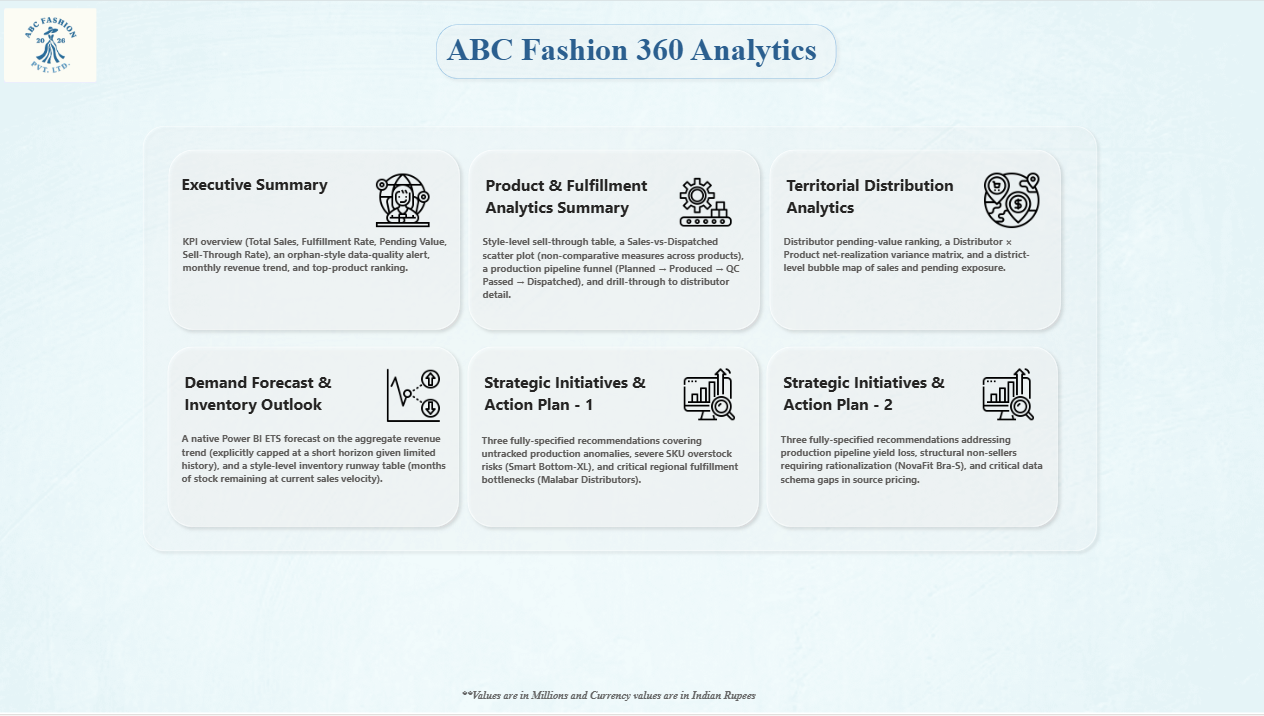

What the dashboard file says about the page in this screenshot:
{"tool":"powerbi","page":{"name":"Home","canvas":[1920,1080],"ordinal":0},"visuals":[{"type":"textbox","box":[638.7,41,640.7,76.2],"z":0},{"type":"group","id":"g1","title":"Executive Summary ","box":[248.1,215.6,461,293],"z":0,"group":"g6"},{"type":"actionButton","title":"Executive Summary","box":[248.1,215.6,461,293],"z":0,"group":"g1"},{"type":"actionButton","title":"Product & Fulfilment","box":[703.1,215.6,461,293],"z":0,"group":"g2"},{"type":"actionButton","title":"Territorial Distribution Analytics","box":[1158.2,215.6,461,293],"z":0,"group":"g3"},{"type":"actionButton","title":"Demand Forecast & Inventory Outlook","box":[247.2,513.6,461,293],"z":0,"group":"g5"},{"type":"group","id":"g2","title":"Product & Fulfillment Analytics","box":[703.1,215.6,461,293],"z":1000,"group":"g6"},{"type":"image","box":[1492.2,252.7,84,97.7],"z":1000,"group":"g3"},{"type":"textbox","box":[271.9,257.2,263.2,51.3],"z":1000,"group":"g1"},{"type":"textbox","box":[732.8,258.8,277.4,91.8],"z":1000,"group":"g2"},{"type":"actionButton","title":"Strategic Initiatives & Action Plan - 1","box":[702.2,513.6,461,293],"z":1000,"group":"g4"},{"type":"actionButton","title":"Strategic Initiatives & Action Plan - 2","box":[1155,513.6,461,293],"z":1000,"group":"g7"},{"type":"textbox","box":[276.9,556.8,277.4,91.8],"z":1000,"group":"g5"},{"type":"image","box":[587.4,549.7,83.1,95.9],"z":1500,"group":"g5"},{"type":"group","id":"g3","title":"Territorial Distribution Analytics","box":[1158.2,215.6,461,293],"z":2000,"group":"g6"},{"type":"image","box":[570.4,252.7,84,97.7],"z":2000,"group":"g1"},{"type":"image","box":[1029.7,256.8,84,97.7],"z":2000,"group":"g2"},{"type":"textbox","box":[1187.9,258.8,277.4,91.8],"z":2000,"group":"g3"},{"type":"group","id":"g4","title":"Strategic Initiatives & Action Plan - 1","box":[702.2,513.6,460.3,294.1],"z":2000,"group":"g8"},{"type":"textbox","box":[731.9,556.8,277.4,91.8],"z":2000,"group":"g4"},{"type":"textbox","box":[1184.7,556.8,277.4,91.8],"z":2000,"group":"g7"},{"type":"image","box":[1037.5,547.6,83.1,98],"z":2500,"group":"g4"},{"type":"image","box":[1490.3,547.6,83.1,98],"z":2500,"group":"g7"},{"type":"image","box":[9.1,0,140.2,134.6],"z":3000},{"type":"shape","box":[210.9,180.3,1462.5,661.5],"z":4000},{"type":"shape","box":[654.3,25.4,625,101.6],"z":5000},{"type":"group","id":"g5","title":"Demand Forecast & Inventory Outlook","box":[247.2,513.6,462.4,294.1],"z":6000,"group":"g8"},{"type":"group","id":"g6","title":"Row1 Home_Nav","box":[248.1,215.6,1371,293],"z":7000},{"type":"group","id":"g7","title":"Strategic Initiatives & Action Plan - 2","box":[1155,513.6,462.4,291.9],"z":8000,"group":"g8"},{"type":"group","id":"g8","title":"Row2 Home_Nav","box":[247.2,513.6,1370.2,294.1],"z":8001},{"type":"textbox","box":[671.1,987.6,507.2,91.5],"z":8002}]}

Visuals, with their boxes in screenshot pixels (x1, y1, x2, y2), scaled from the page's 1920x1080 canvas onto the 1264x716 screenshot:
textbox: (left=420, top=27, right=842, bottom=78)
"Executive Summary " group: (left=163, top=143, right=467, bottom=337)
"Executive Summary" actionButton: (left=163, top=143, right=467, bottom=337)
"Product & Fulfilment" actionButton: (left=463, top=143, right=766, bottom=337)
"Territorial Distribution Analytics" actionButton: (left=762, top=143, right=1066, bottom=337)
"Demand Forecast & Inventory Outlook" actionButton: (left=163, top=340, right=466, bottom=535)
"Product & Fulfillment Analytics" group: (left=463, top=143, right=766, bottom=337)
image: (left=982, top=168, right=1038, bottom=232)
textbox: (left=179, top=171, right=352, bottom=205)
textbox: (left=482, top=172, right=665, bottom=232)
"Strategic Initiatives & Action Plan - 1" actionButton: (left=462, top=340, right=766, bottom=535)
"Strategic Initiatives & Action Plan - 2" actionButton: (left=760, top=340, right=1064, bottom=535)
textbox: (left=182, top=369, right=365, bottom=430)
image: (left=387, top=364, right=441, bottom=428)
"Territorial Distribution Analytics" group: (left=762, top=143, right=1066, bottom=337)
image: (left=376, top=168, right=431, bottom=232)
image: (left=678, top=170, right=733, bottom=235)
textbox: (left=782, top=172, right=965, bottom=232)
"Strategic Initiatives & Action Plan - 1" group: (left=462, top=340, right=765, bottom=535)
textbox: (left=482, top=369, right=664, bottom=430)
textbox: (left=780, top=369, right=963, bottom=430)
image: (left=683, top=363, right=738, bottom=428)
image: (left=981, top=363, right=1036, bottom=428)
image: (left=6, top=0, right=98, bottom=89)
shape: (left=139, top=120, right=1102, bottom=558)
shape: (left=431, top=17, right=842, bottom=84)
"Demand Forecast & Inventory Outlook" group: (left=163, top=340, right=467, bottom=535)
"Row1 Home_Nav" group: (left=163, top=143, right=1066, bottom=337)
"Strategic Initiatives & Action Plan - 2" group: (left=760, top=340, right=1065, bottom=534)
"Row2 Home_Nav" group: (left=163, top=340, right=1065, bottom=535)
textbox: (left=442, top=655, right=776, bottom=715)
